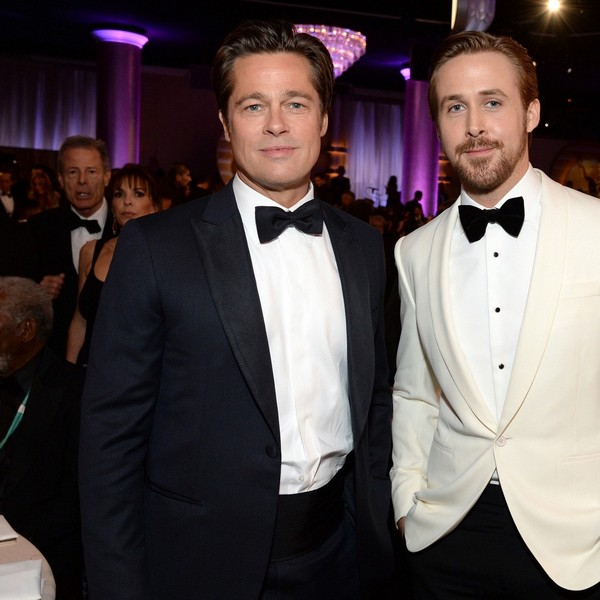bow: (251, 194, 330, 250), (452, 200, 536, 248), (64, 208, 103, 236)
